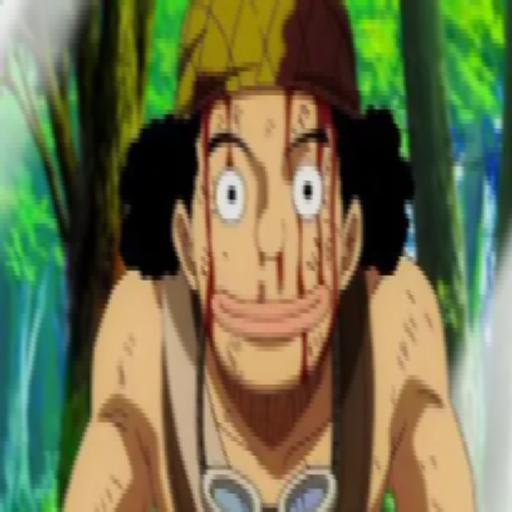Usopp: (26, 0, 484, 512)
